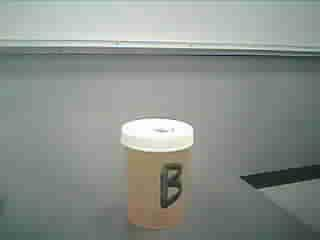Bottle B: (112, 114, 208, 240)
